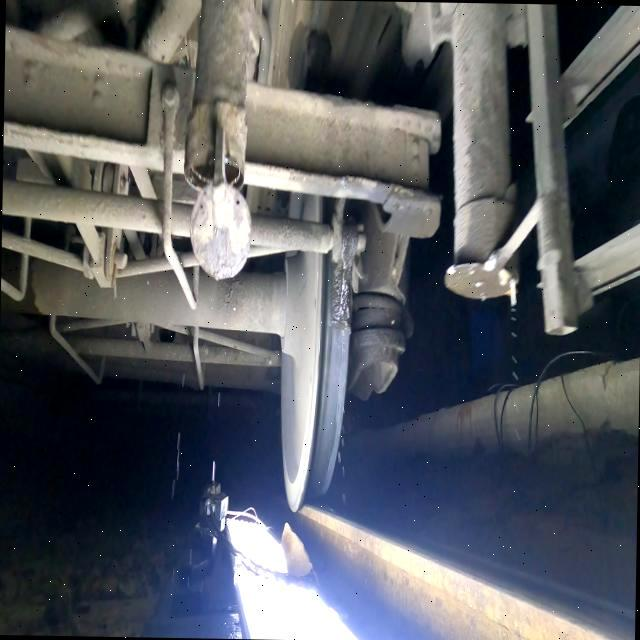Cracks-Scratches: (317, 312, 322, 372)
Wheel: (280, 254, 350, 511)
